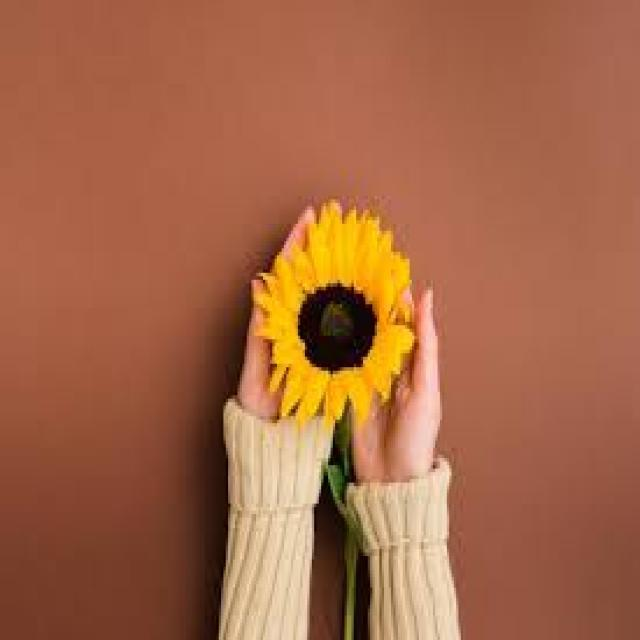sunflower: (253, 198, 414, 426)
